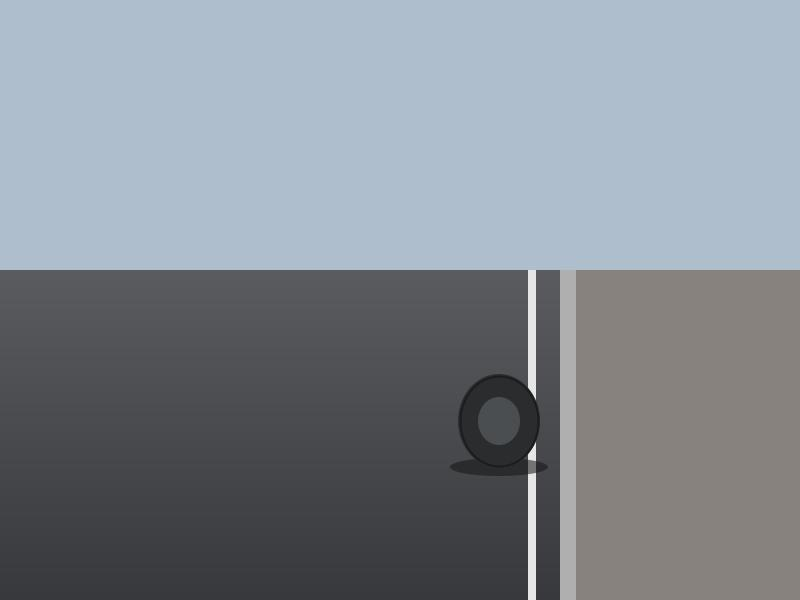ROAD_OBSTACLE: (458, 374, 540, 468)
